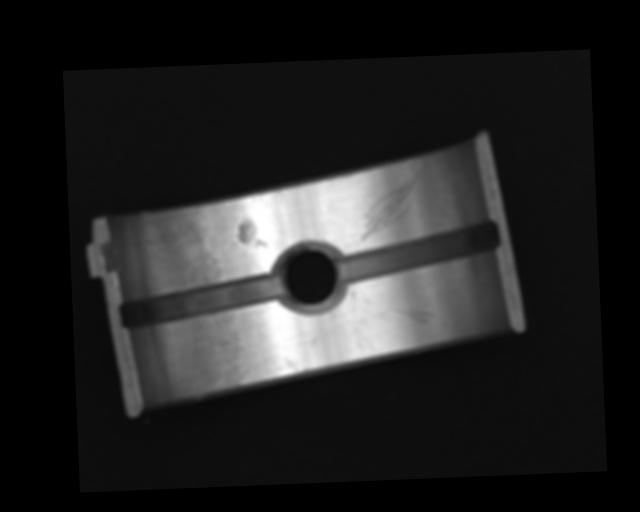bruise: (235, 218, 267, 249)
gap: (337, 222, 501, 282), (119, 278, 283, 329)
hole: (274, 239, 345, 316)
nick: (358, 163, 426, 242), (382, 304, 435, 326)
